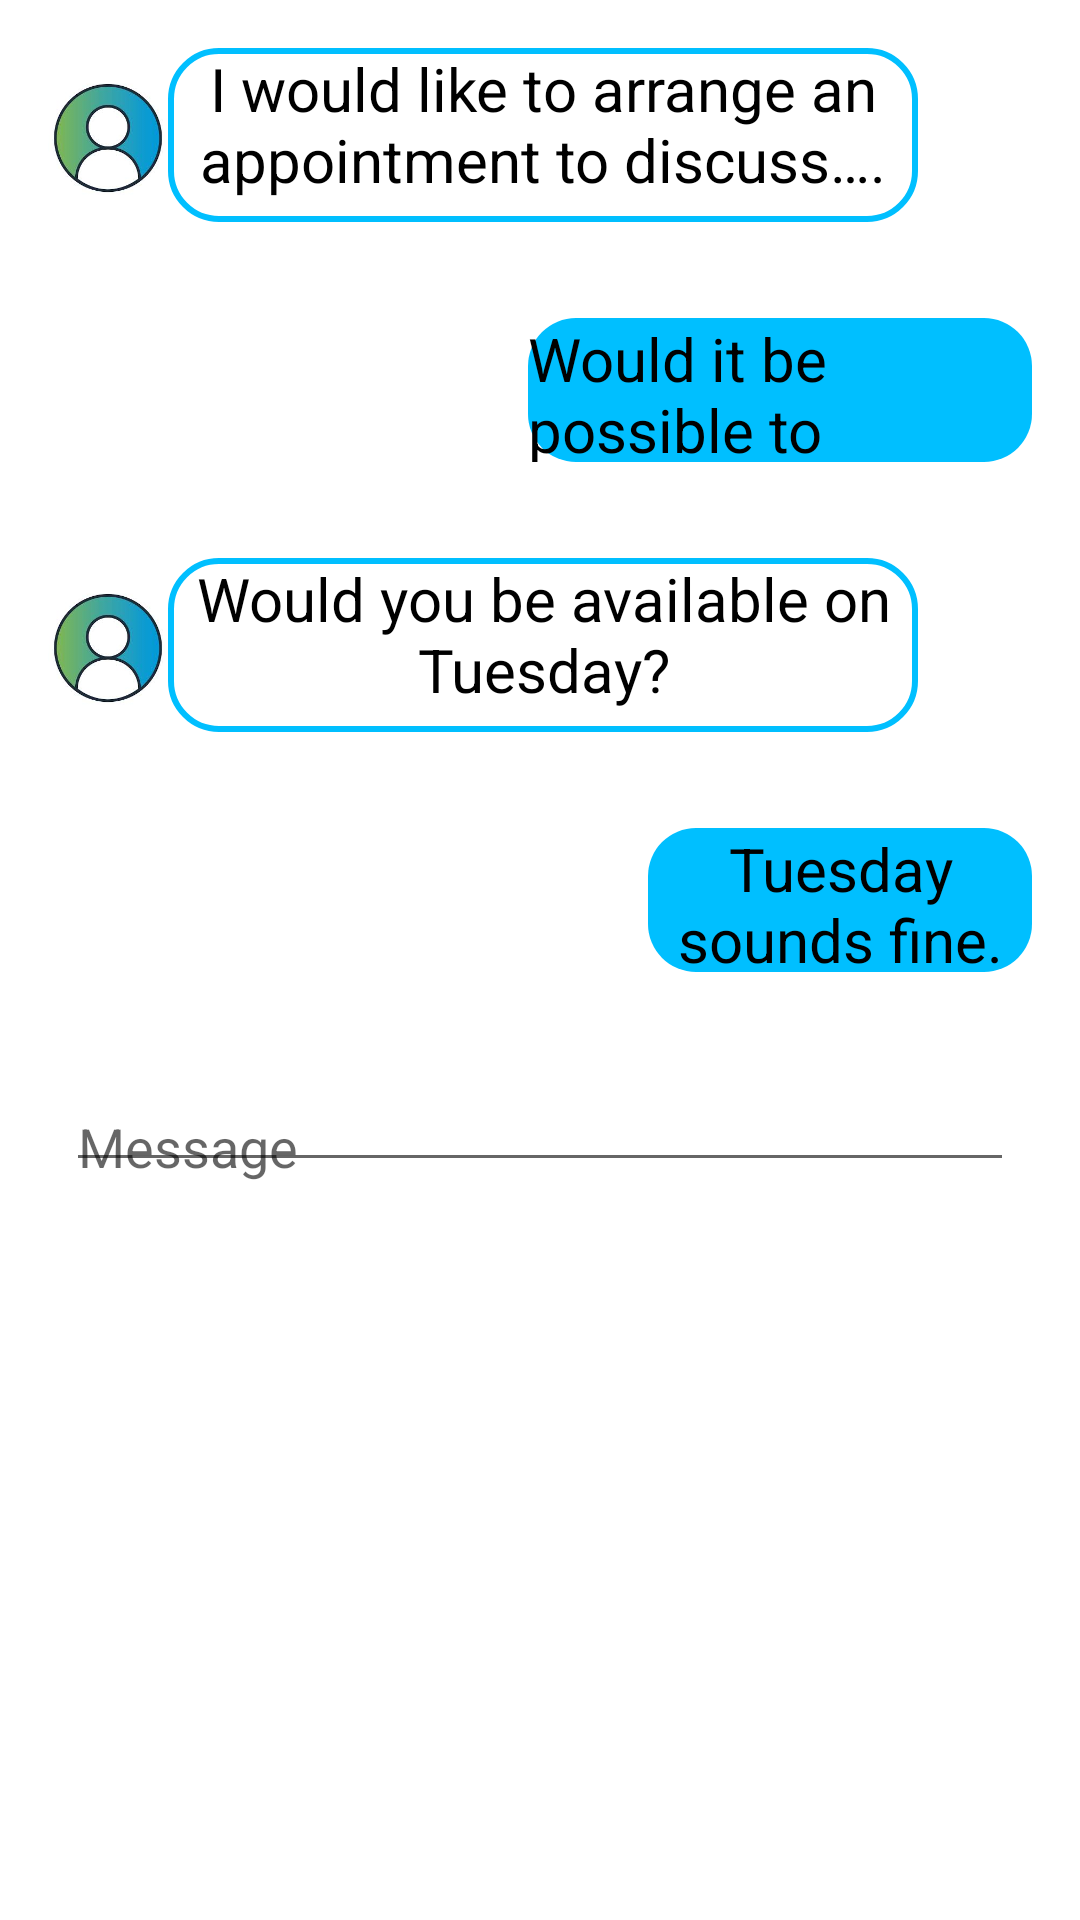

Point at icon controls on the screen. Image size 1080 × 1920, points as [x,y].
usericon: [108,138], [108,648]
